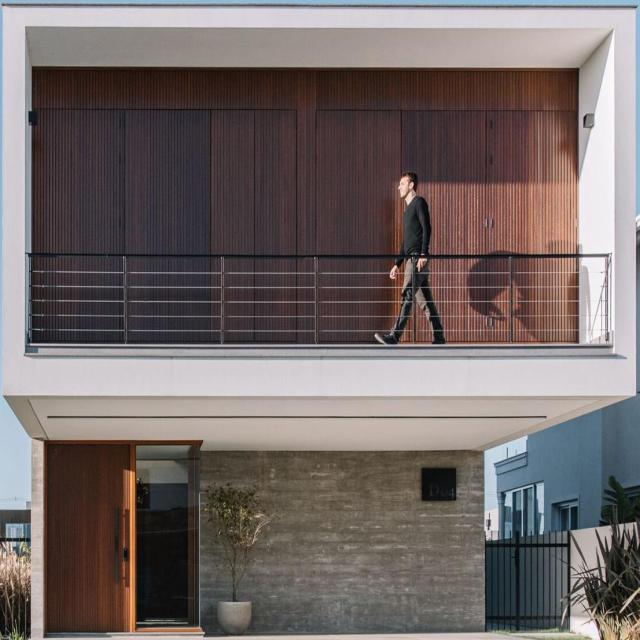Railing: (28, 251, 610, 346), (486, 531, 571, 633)
door: (45, 446, 131, 634)
wall: (2, 3, 635, 639)
windows: (137, 442, 202, 633)
